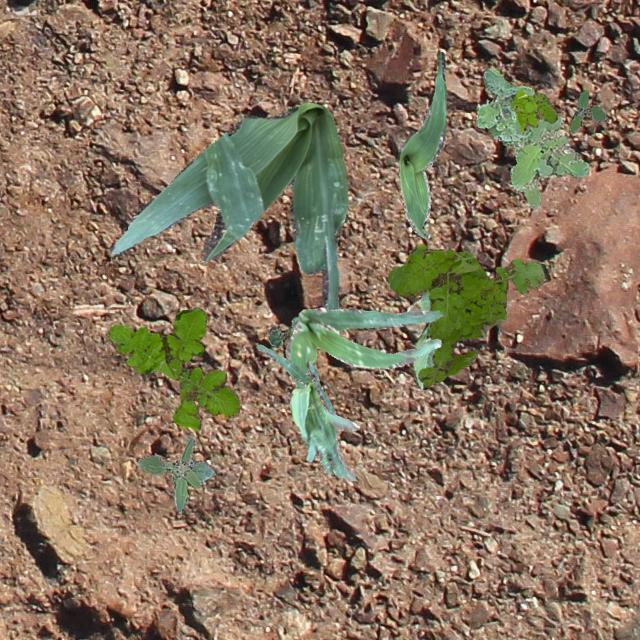crop: (109, 100, 348, 308), (284, 306, 440, 480), (256, 344, 344, 476), (396, 51, 446, 238), (413, 291, 435, 388), (269, 316, 297, 346)
weed: (388, 244, 550, 386), (105, 306, 238, 428), (474, 66, 588, 208), (136, 436, 214, 512), (511, 90, 556, 130), (568, 90, 608, 132)
